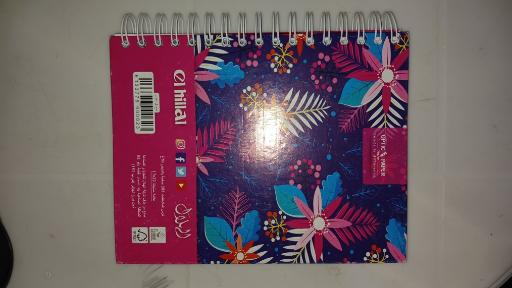notebook: (108, 12, 408, 264)
